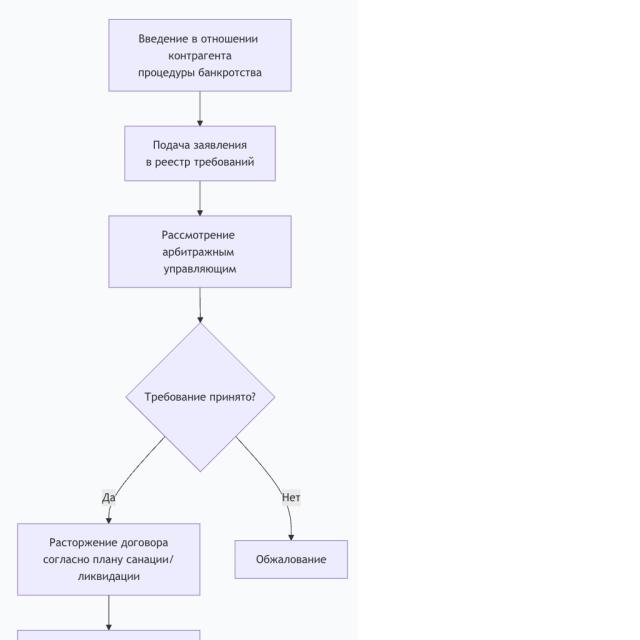arrow: (234, 437, 301, 540), (105, 437, 167, 523), (192, 181, 211, 217), (191, 90, 209, 127), (101, 595, 117, 631), (193, 288, 209, 323)
text_region: (280, 488, 304, 507), (95, 491, 125, 506)
